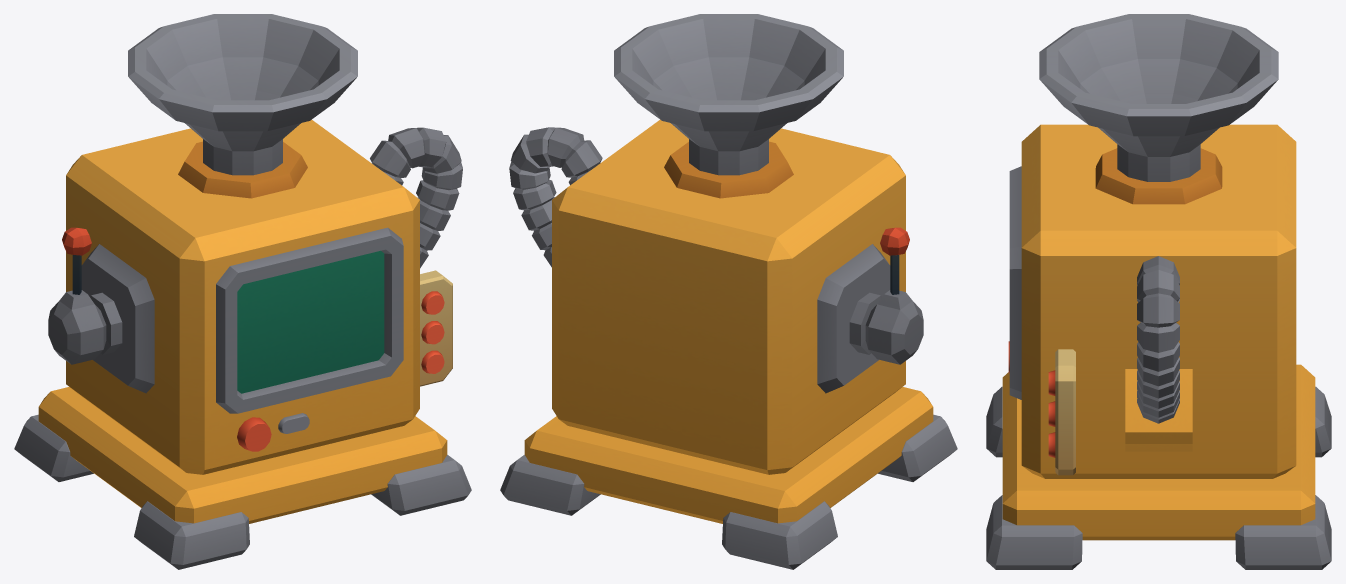
The model's file is eating_robot.glb.
The picture shows the model from 3 angles, left to right: view 1: azimuth 30°, elevation 25°; view 2: azimuth 150°, elevation 25°; view 3: azimuth 270°, elevation 25°; orthographic projection. The views are drawn at different scales.
Parts seen in each view (by area): view 1: body, funnel, base, screen, screen_frame, legs, arm_base_base, tube, arm_base, funnel_base, panel, panel_buttons (+2 smaller); view 2: body, funnel, base, legs, arm_base_base, tube, arm_base, funnel_base, arm_base.002; view 3: body, funnel, base, legs, tube, funnel_base, tube_base, screen_frame, panel, panel_buttons.
Part boxes in pixels (x1,y1,x2,y2): body: [66, 119, 419, 474]; funnel: [128, 14, 357, 175]; base: [38, 387, 447, 523]; screen: [237, 250, 384, 393]; screen_frame: [216, 227, 403, 413]; legs: [14, 414, 471, 569]; arm_base_base: [81, 244, 154, 393]; tube: [370, 127, 462, 268]; arm_base: [48, 290, 122, 364]; funnel_base: [178, 141, 307, 198]; panel: [420, 270, 452, 386]; panel_buttons: [421, 291, 444, 373]; body: [552, 119, 905, 474]; funnel: [614, 14, 843, 175]; base: [524, 387, 933, 523]; legs: [500, 414, 957, 569]; arm_base_base: [817, 244, 890, 393]; tube: [509, 127, 602, 267]; arm_base: [849, 290, 923, 364]; funnel_base: [664, 141, 793, 198]; arm_base.002: [880, 227, 909, 255]; body: [1021, 124, 1296, 478]; funnel: [1039, 14, 1278, 181]; base: [1002, 364, 1315, 540]; legs: [986, 386, 1331, 569]; tube: [1137, 256, 1179, 423]; funnel_base: [1095, 148, 1222, 204]; tube_base: [1125, 369, 1192, 451]; screen_frame: [1009, 166, 1021, 399]; panel: [1055, 349, 1075, 475]; panel_buttons: [1048, 370, 1055, 457].
Size of the model in its own units: 3.35 by 3.33 by 2.39.
1 material, 1 textured.
